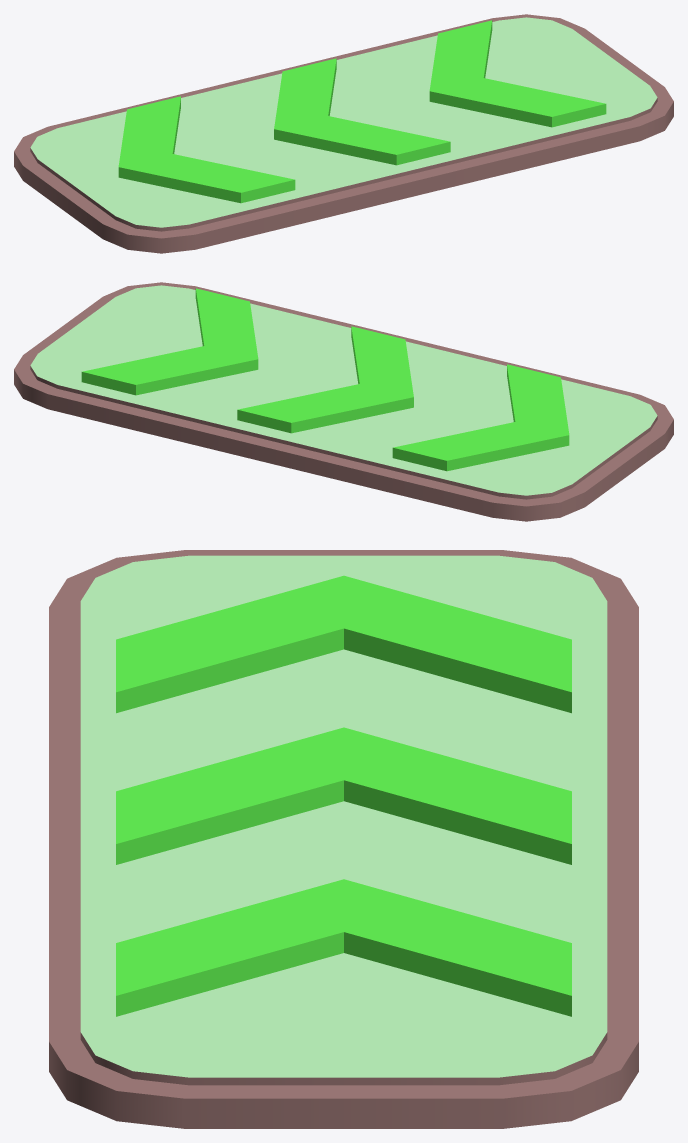
The model's file is BoosterRed.fbx.
3 views of the same model, one above another, from view 1: azimuth 30°, elevation 25°; view 2: azimuth 150°, elevation 25°; view 3: azimuth 270°, elevation 25° (orthographic). The views are drawn at different scales.
Parts seen in each view (by area): view 1: Booster Red, Arrow 1 Red, Arrow 3 Red, Arrow 2 Red; view 2: Booster Red, Arrow 1 Red, Arrow 3 Red, Arrow 2 Red; view 3: Booster Red, Arrow 2 Red, Arrow 1 Red, Arrow 3 Red.
Boxes of the visible parts, bbox=[...] form: Booster Red: bbox=[14, 14, 673, 253]; Arrow 1 Red: bbox=[429, 20, 606, 127]; Arrow 3 Red: bbox=[118, 96, 295, 203]; Arrow 2 Red: bbox=[274, 58, 450, 165]; Booster Red: bbox=[14, 282, 673, 521]; Arrow 1 Red: bbox=[81, 288, 258, 395]; Arrow 3 Red: bbox=[392, 364, 569, 471]; Arrow 2 Red: bbox=[237, 326, 413, 433]; Booster Red: bbox=[49, 550, 638, 1128]; Arrow 2 Red: bbox=[116, 727, 571, 864]; Arrow 1 Red: bbox=[116, 879, 571, 1016]; Arrow 3 Red: bbox=[116, 575, 571, 713].
Bounding box in the file's own units: 290 × 14.55 × 132.
Materials: 1 (1 with a texture image).
